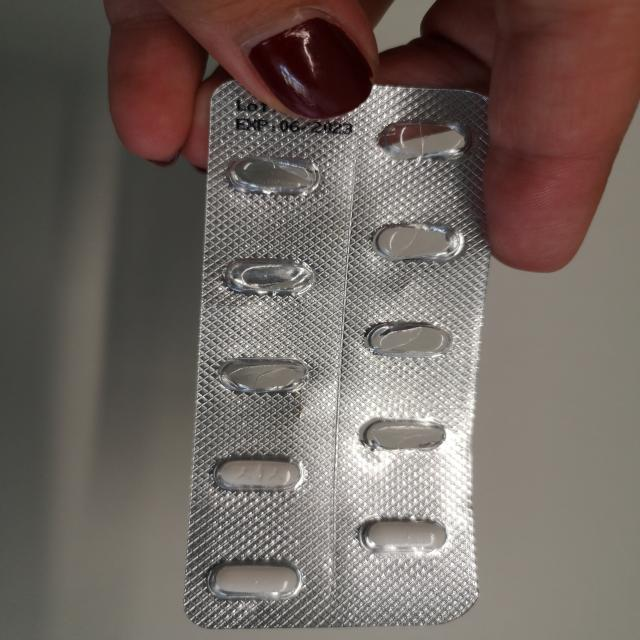Empty: (371, 117, 485, 163), (222, 152, 326, 200), (219, 253, 320, 300), (213, 354, 316, 398), (369, 219, 467, 265), (359, 319, 456, 361), (356, 414, 451, 454)
Pill: (203, 560, 306, 603), (354, 514, 451, 556), (210, 454, 308, 494)
